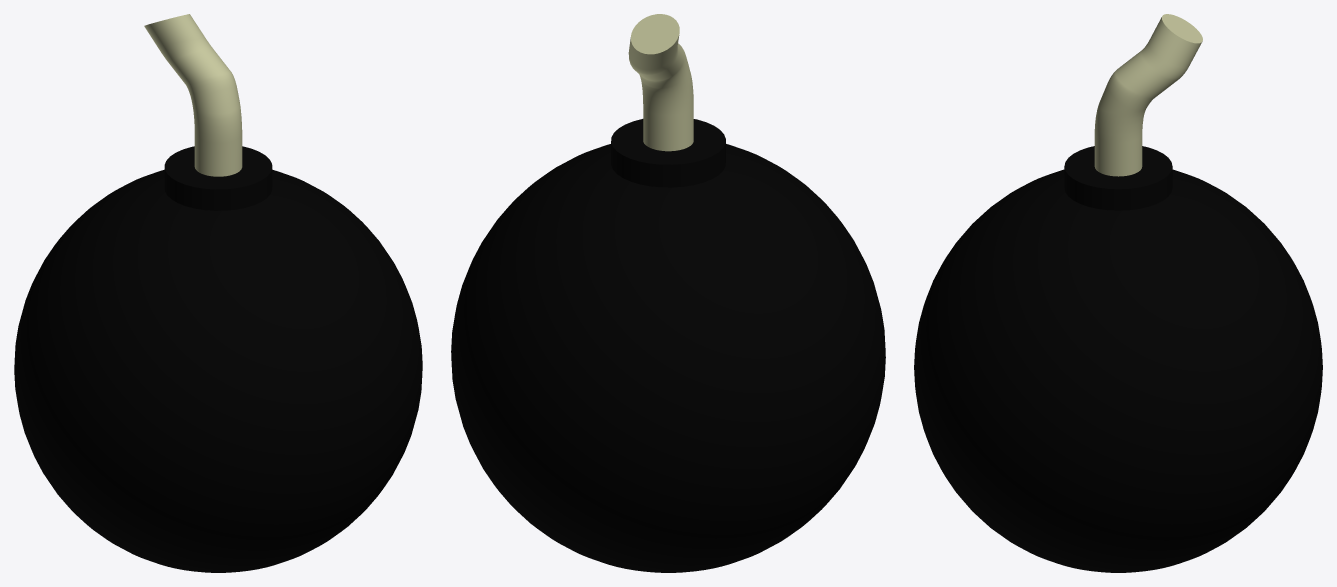
Rendered from bomb.fbx.
3 views of the same model, side by side, from view 1: azimuth 30°, elevation 25°; view 2: azimuth 150°, elevation 25°; view 3: azimuth 270°, elevation 25° (orthographic). The views are drawn at different scales.
Visible parts, largest first — view 1: Sphere; view 2: Sphere; view 3: Sphere.
Boxes of the visible parts, <box> form: Sphere: <box>14,14,422,572</box>; Sphere: <box>451,14,885,572</box>; Sphere: <box>914,14,1322,572</box>.
Size of the model in its own units: 393 by 559 by 393.
